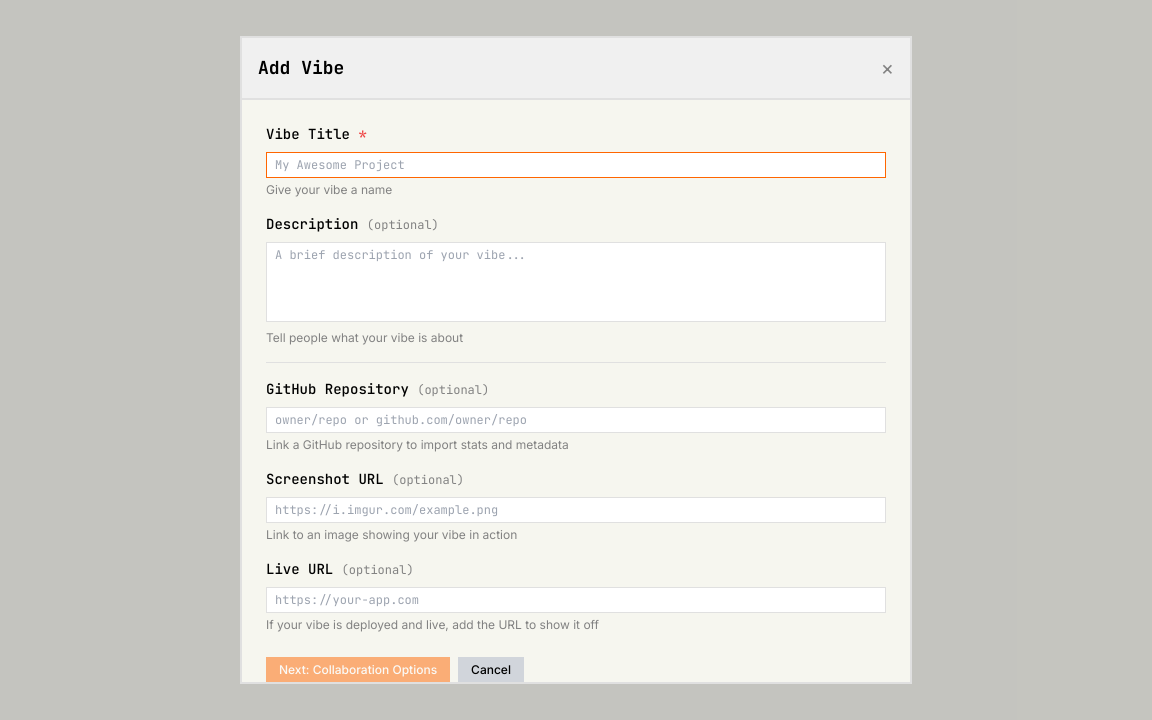
Scenario: AddVibeModal › allows going back from step 2 to step 1
# Go to step 2
Type "facebook/react" into the field with placeholder "owner/repo or github.com/owner/repo" at (576, 420), box [266,407,886,433]
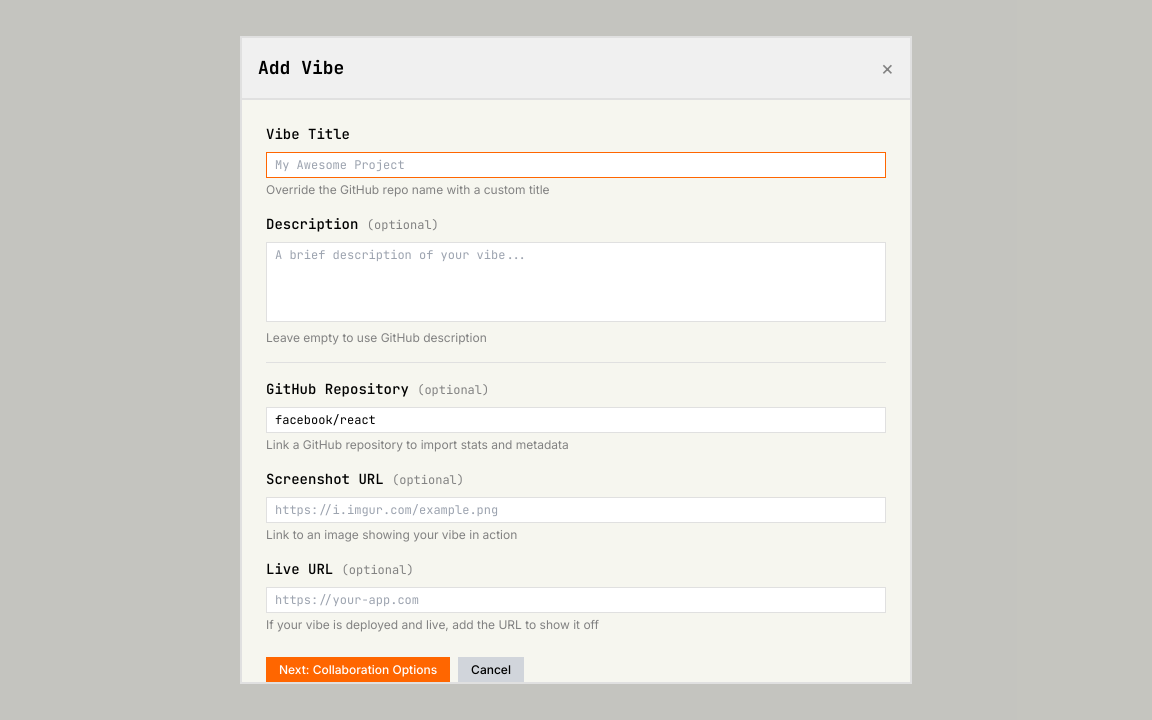
Click the button "Next: Collaboration Options" at (358, 670), box [266,657,450,683]
(page scrolled)
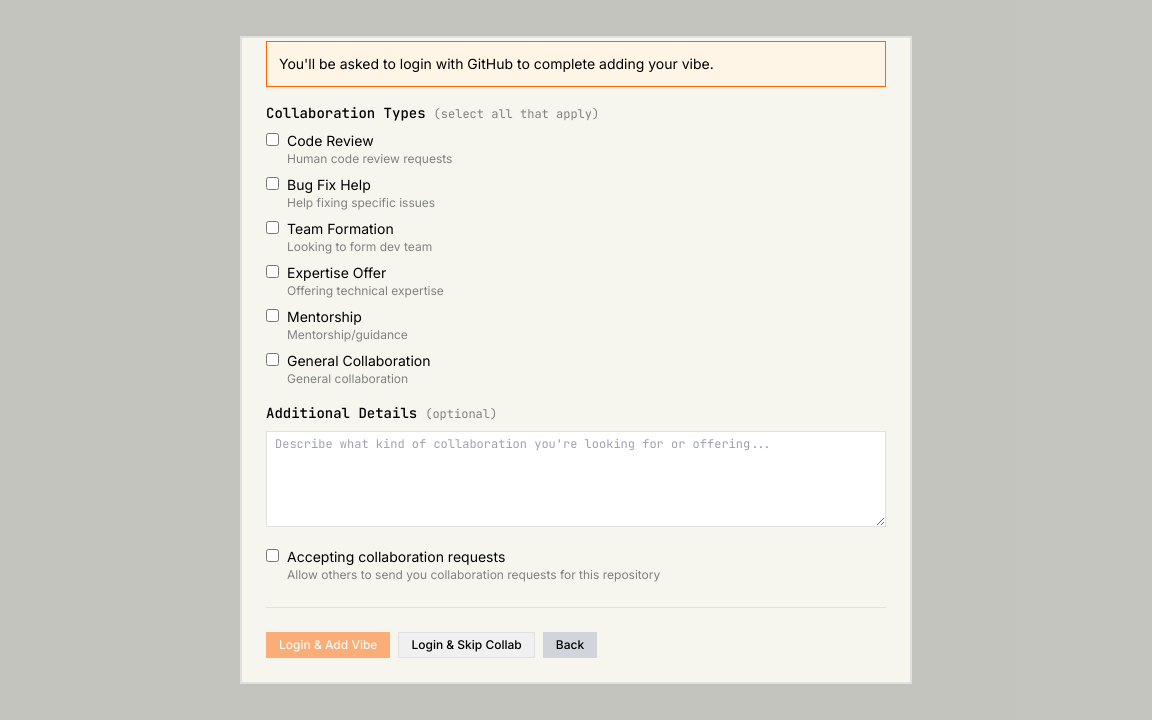
#  Go back
Click the button "Back" at (570, 645), box [543,632,597,658]
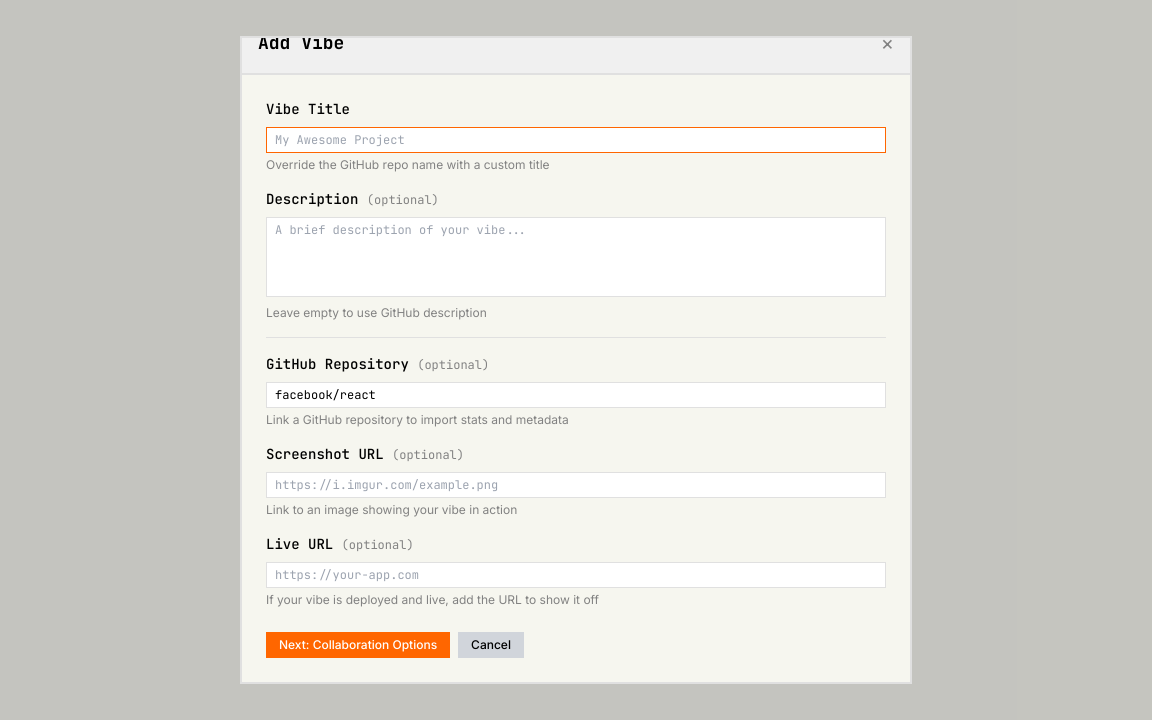
Expected: the heading "Add Vibe" is shown, [258,36,344,57]
Now the field with placeholder "owner/repo or github.com/owner/repo" holds "facebook/react", box [266,382,886,408]
